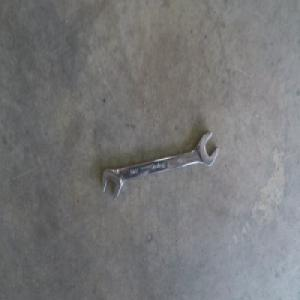Wrench: (101, 133, 217, 202)
